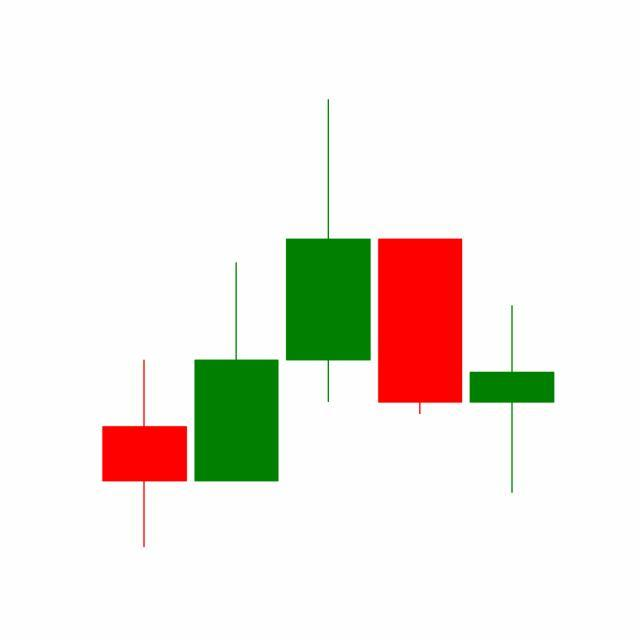Spinning Top: (466, 303, 559, 496)
